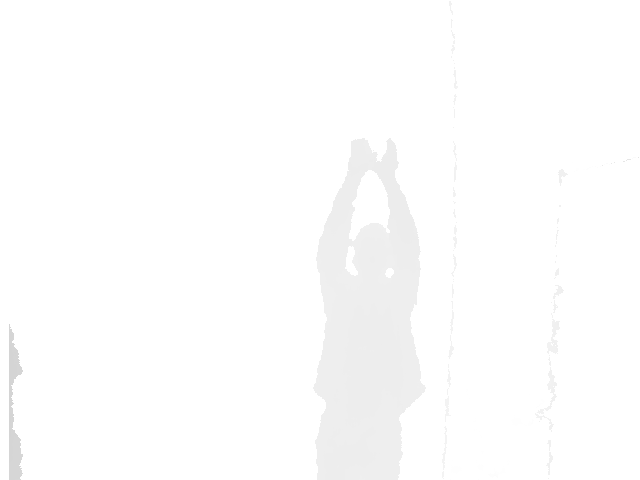hand: (347, 138, 375, 180), (375, 137, 400, 182)
head: (354, 224, 390, 279)
person: (312, 138, 428, 480)
